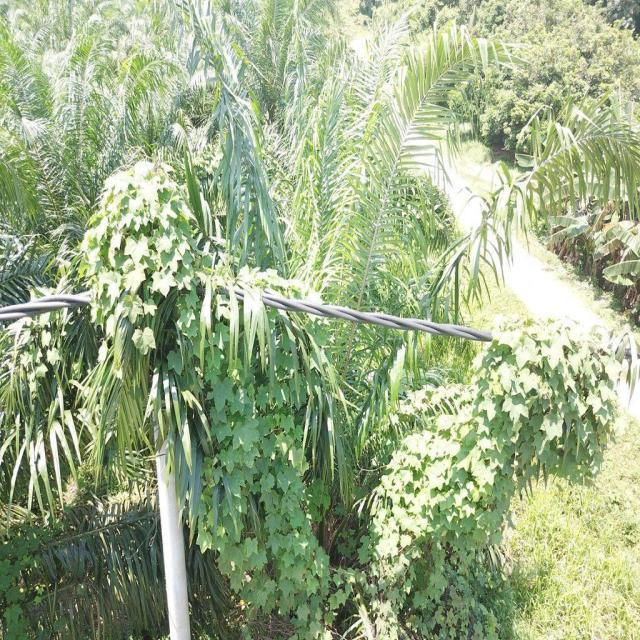critical vegetation: (363, 304, 619, 548), (72, 149, 218, 406)
